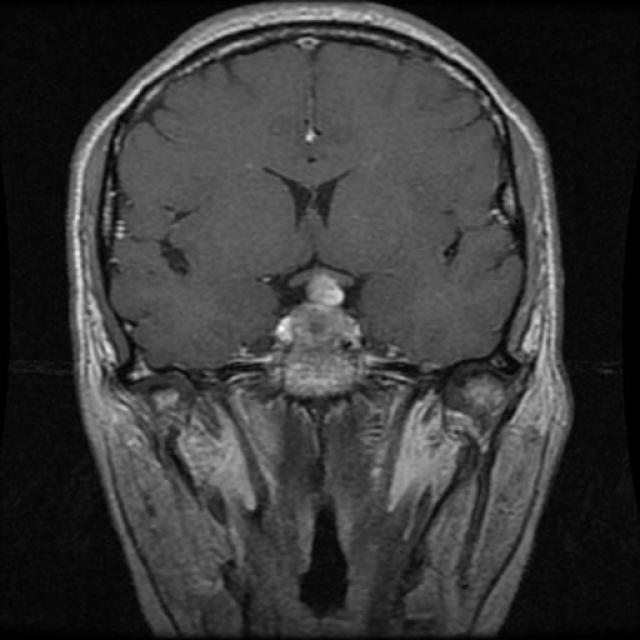pituitary: (265, 271, 385, 400)
